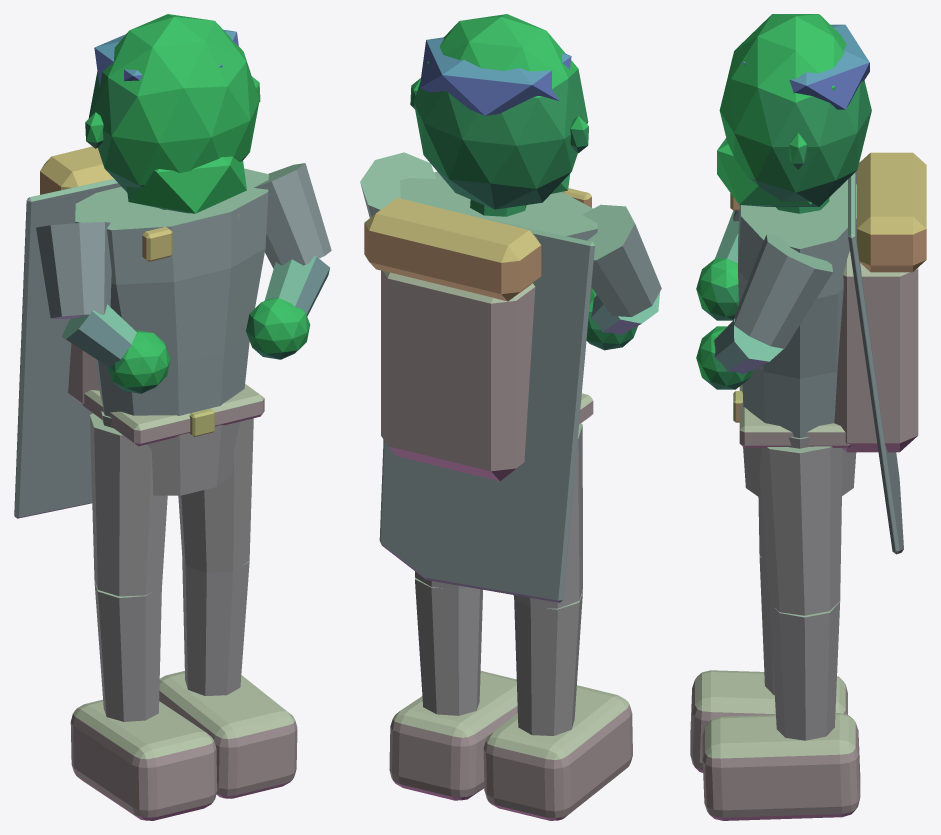
Rendered from npc_refugee_work_v01.glb.
3 views of the same model, side by side, from view 1: azimuth 30°, elevation 25°; view 2: azimuth 150°, elevation 25°; view 3: azimuth 270°, elevation 25° (orthographic). The views are drawn at different scales.
Parts seen in each view (by area): view 1: GEO_npc_refugee_work_v01; view 2: GEO_npc_refugee_work_v01; view 3: GEO_npc_refugee_work_v01.
Part boxes in pixels (box(x1,y1,x2,y2)): GEO_npc_refugee_work_v01: box(14, 14, 331, 820); GEO_npc_refugee_work_v01: box(360, 14, 661, 820); GEO_npc_refugee_work_v01: box(690, 14, 926, 820).
Bounding box in the file's own units: 0.7785 × 2.08 × 0.5777.
